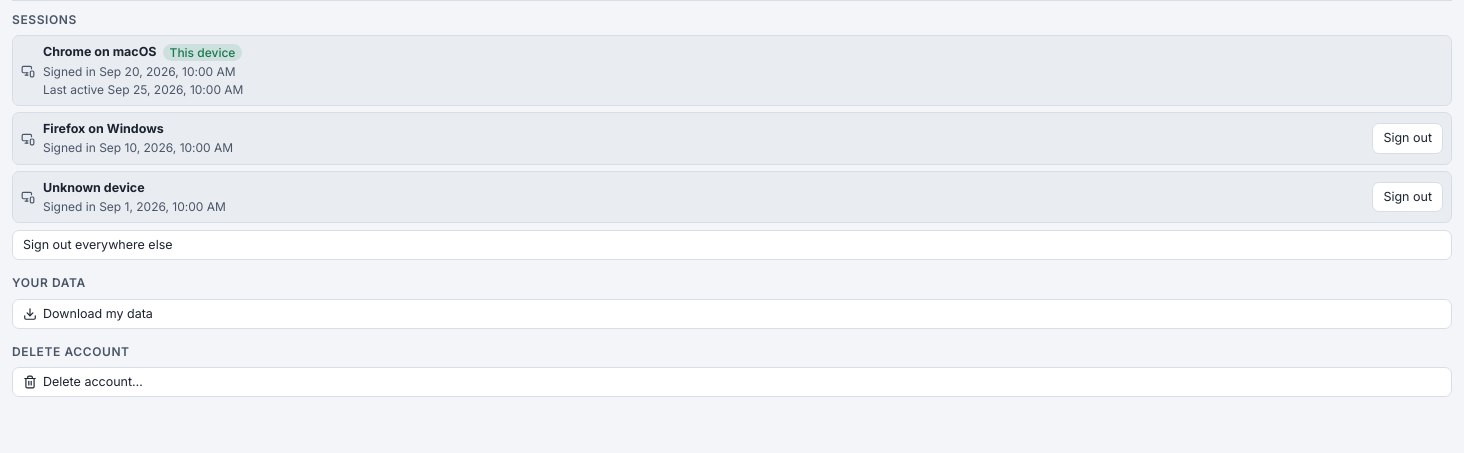
Scenario: account settings › signs out everywhere else and reports failures
The image size is (1464, 453).
expect the list is shown: met, box [12,35,1452,223]
Click the button "Sign out everywhere else": (98, 245) [12,230,1452,260]
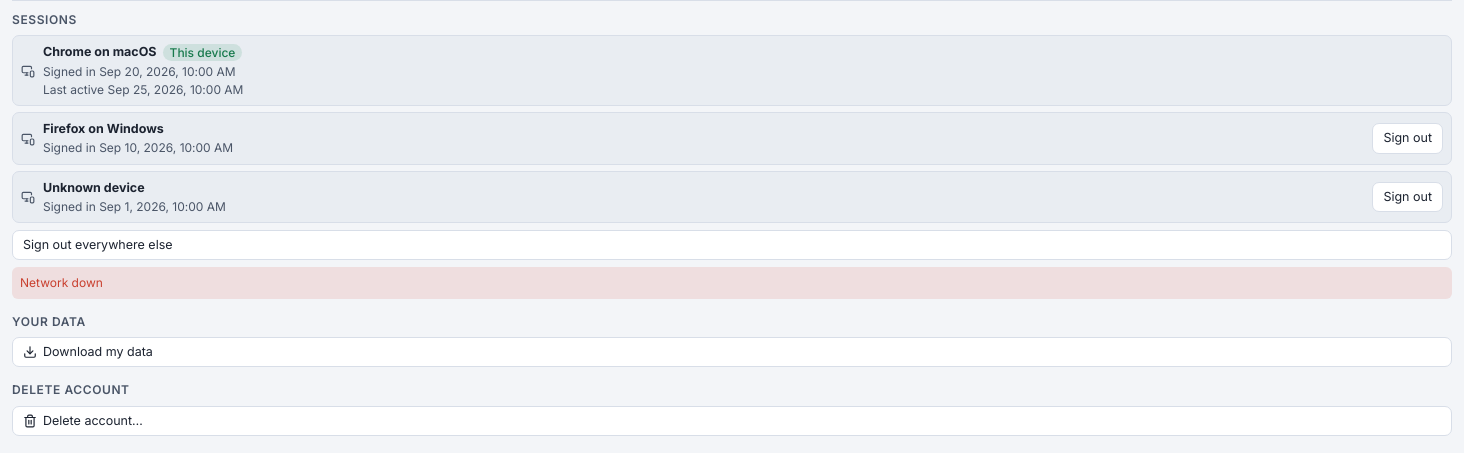
expect the message reads "Network down": met, box [20,276,103,290]
Click the button "Sign out everywhere else": (98, 245) [12,230,1452,260]
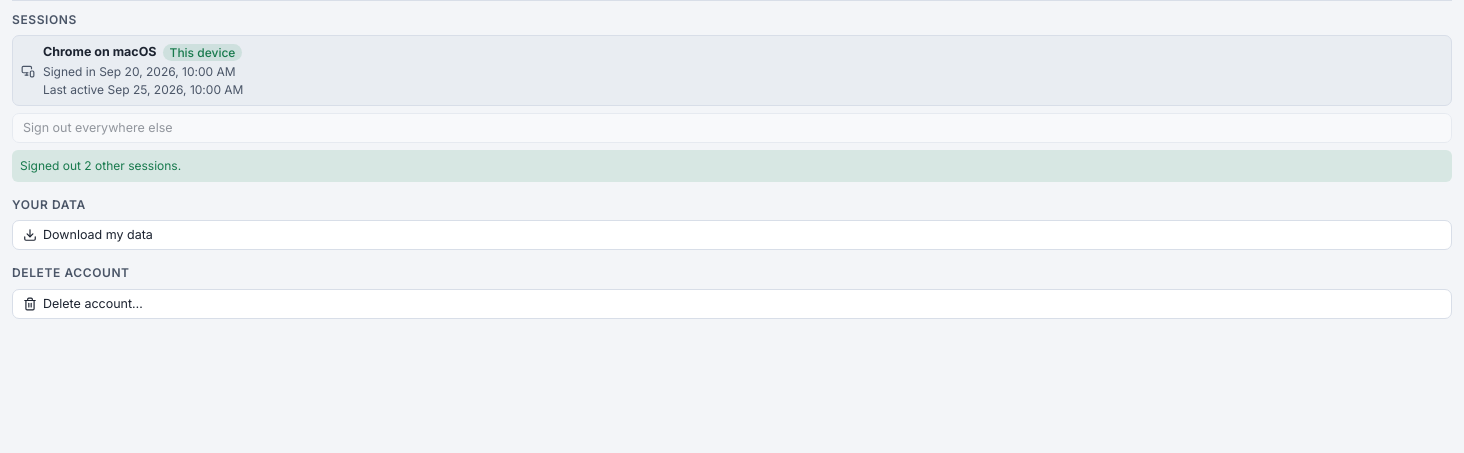
expect the message reads "Signed out 2 other sessions.": met, box [20,158,181,173]
expect the number of list items is 1: met, box [12,35,1452,106]
expect the button "Sign out everywhere else" is disabled: met, box [12,113,1452,143]
